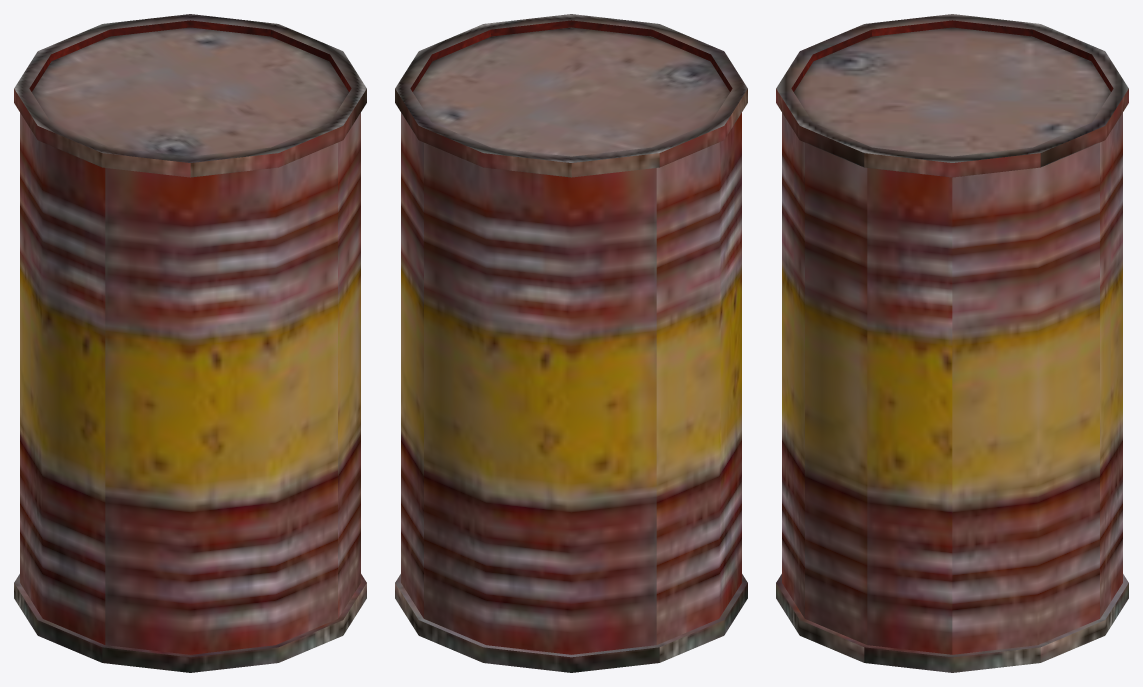
Rendered from modular-containers-and-barrells-pack-game-ready-cylinder-001-329.glb.
The picture shows the model from 3 angles, left to right: view 1: azimuth 30°, elevation 25°; view 2: azimuth 150°, elevation 25°; view 3: azimuth 270°, elevation 25°; orthographic projection.
Visible parts, largest first — view 1: Cylinder.001_329; view 2: Cylinder.001_329; view 3: Cylinder.001_329.
Part boxes in pixels (bbox=[...]): Cylinder.001_329: bbox=[14, 14, 366, 672]; Cylinder.001_329: bbox=[395, 14, 747, 672]; Cylinder.001_329: bbox=[776, 14, 1128, 672].
Bounding box in the file's own units: 0.8278 × 1.32 × 0.8278.
1 material, 1 textured.
